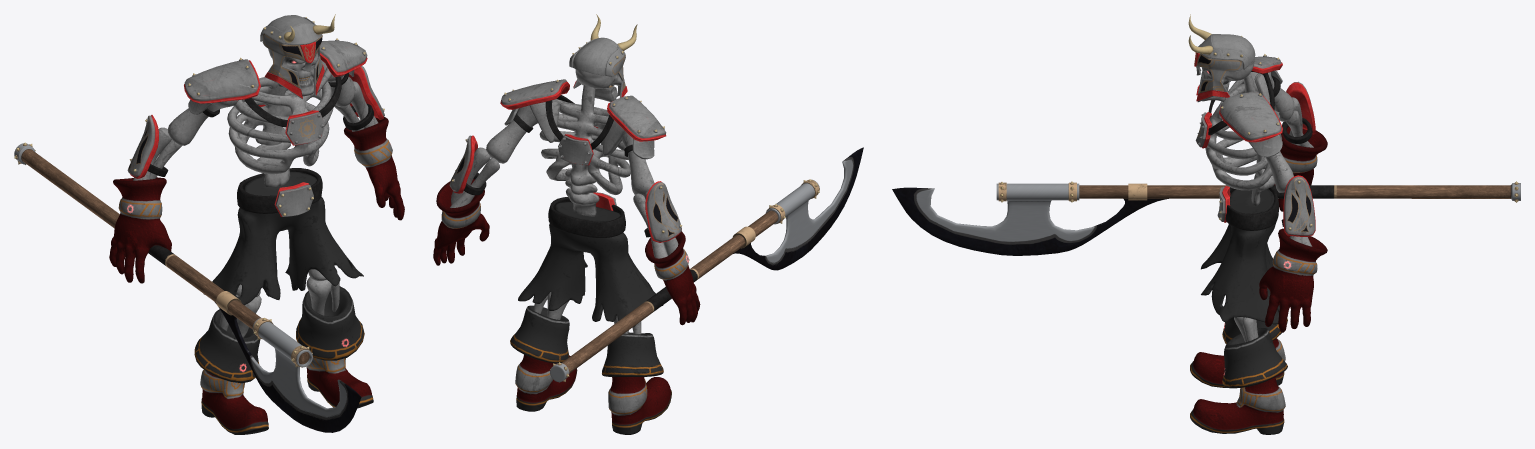
Rendered from skeleton_elite.glb.
3 views of the same model, side by side, from view 1: azimuth 30°, elevation 25°; view 2: azimuth 150°, elevation 25°; view 3: azimuth 270°, elevation 25° (orthographic). The views are drawn at different scales.
Visible parts, largest first — view 1: Skeleton_Body, Skeleton_Armor, Skeleton_Preview_Weapon_0; view 2: Skeleton_Body, Skeleton_Armor, Skeleton_Preview_Weapon_0; view 3: Skeleton_Body, Skeleton_Preview_Weapon_0, Skeleton_Armor.
Part boxes in pixels (x1=…): Skeleton_Body: x1=109, y1=48, x2=404, y2=434; Skeleton_Armor: x1=127, y1=14, x2=384, y2=216; Skeleton_Preview_Weapon_0: x1=14, y1=142, x2=361, y2=432; Skeleton_Body: x1=433, y1=69, x2=700, y2=434; Skeleton_Armor: x1=449, y1=14, x2=682, y2=242; Skeleton_Preview_Weapon_0: x1=550, y1=147, x2=863, y2=382; Skeleton_Body: x1=1190, y1=58, x2=1327, y2=434; Skeleton_Preview_Weapon_0: x1=892, y1=181, x2=1520, y2=255; Skeleton_Armor: x1=1188, y1=14, x2=1315, y2=236.
Bounding box in the file's own units: 4.39 × 6.13 × 9.17.
Materials: 4 (4 with a texture image).
